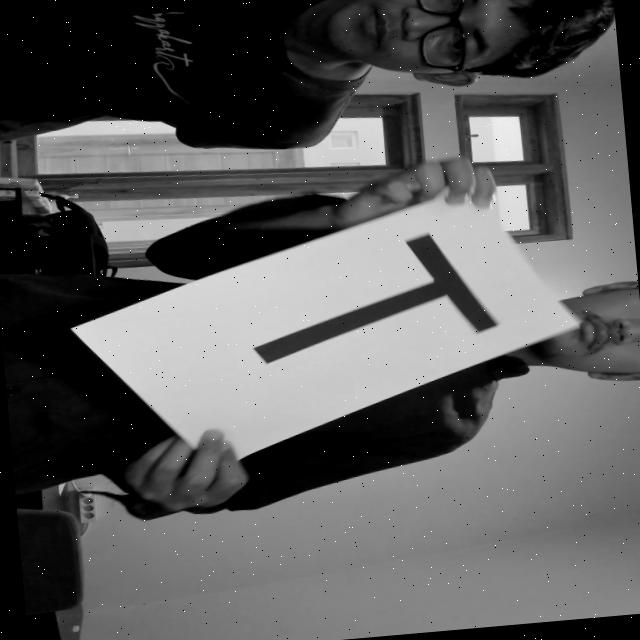t: (219, 220, 518, 385)
